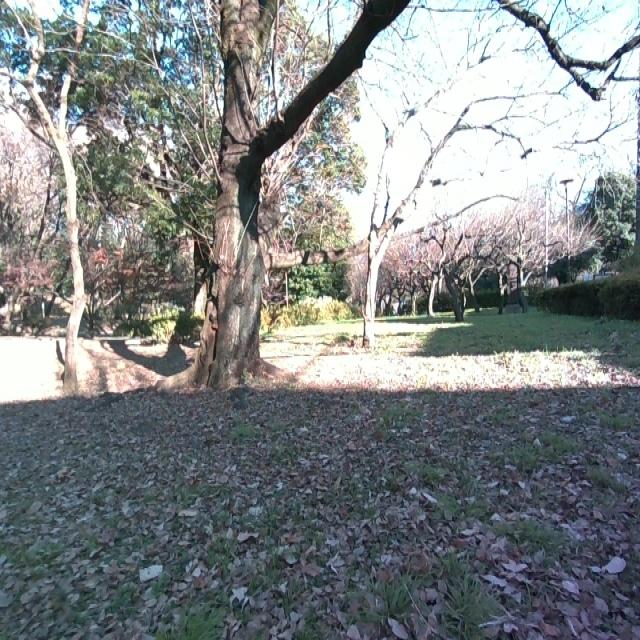bush: (536, 273, 640, 327), (264, 289, 366, 332), (144, 298, 199, 348)
tree: (191, 0, 399, 379), (359, 65, 530, 353), (6, 0, 105, 392), (443, 224, 475, 332), (482, 220, 512, 314), (512, 212, 537, 318), (418, 224, 443, 321)
